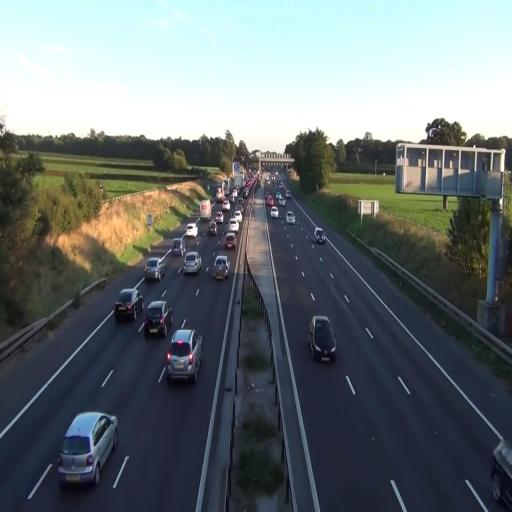vehicle: (56, 411, 118, 489), (165, 328, 204, 384), (490, 434, 512, 510), (309, 316, 337, 364), (144, 299, 172, 338), (114, 286, 143, 323), (144, 256, 166, 282), (212, 253, 230, 282), (182, 251, 201, 277), (223, 232, 237, 250), (314, 228, 326, 244), (285, 212, 296, 224)
